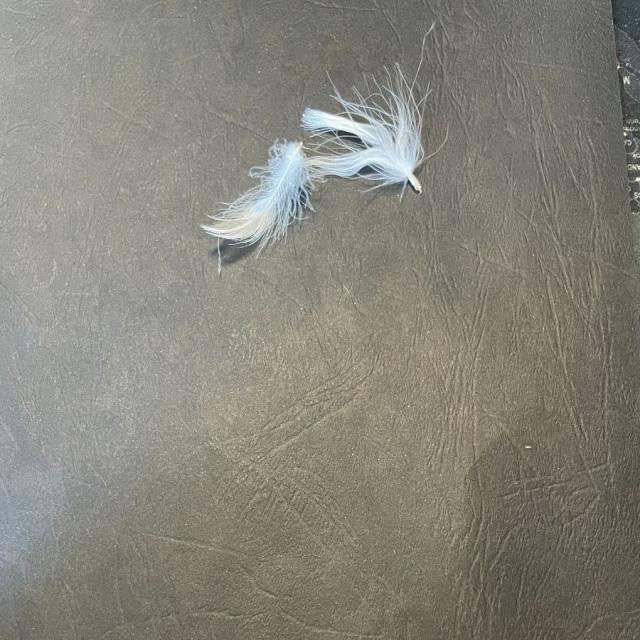feather: (294, 68, 431, 195), (197, 135, 313, 250)
